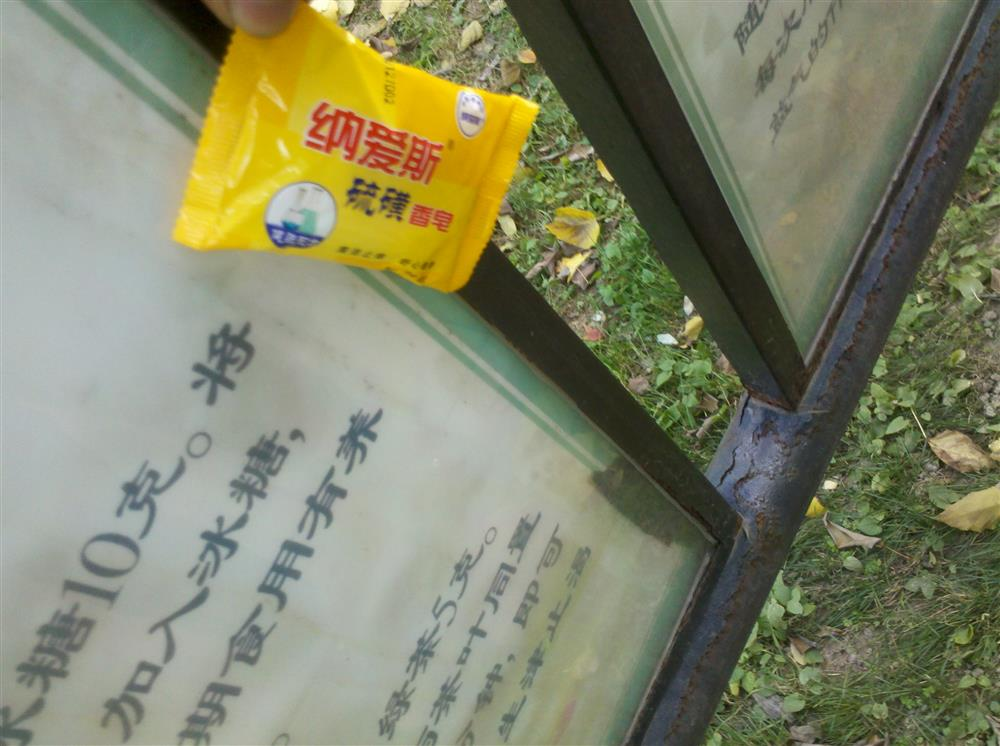nice_soap: (166, 4, 542, 297)
